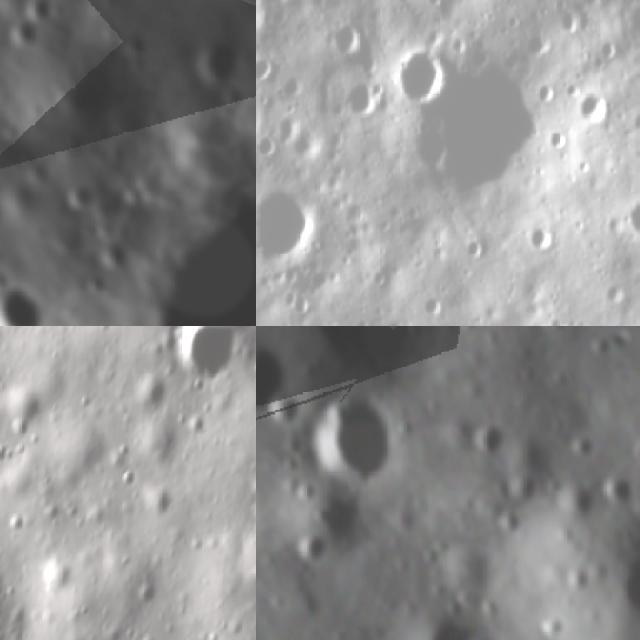crater: (402, 54, 568, 205), (129, 153, 256, 326), (297, 392, 410, 494), (256, 178, 326, 269), (171, 326, 247, 391), (1, 378, 58, 443), (395, 41, 451, 106), (190, 34, 247, 89), (256, 331, 286, 426), (336, 75, 384, 129), (0, 280, 46, 326), (324, 11, 368, 59), (571, 86, 613, 132), (37, 554, 77, 593), (0, 11, 38, 52), (596, 470, 634, 510), (468, 421, 504, 457), (0, 557, 22, 615), (555, 564, 592, 597), (18, 0, 60, 27), (519, 220, 553, 253), (565, 434, 598, 468), (290, 531, 324, 563), (277, 112, 304, 143), (536, 613, 567, 640), (624, 186, 640, 237), (464, 231, 489, 259), (624, 0, 640, 37), (256, 48, 273, 81), (256, 0, 267, 42), (256, 93, 264, 134)
